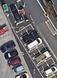parkingspot: (16, 22, 57, 78), (0, 40, 29, 78)
